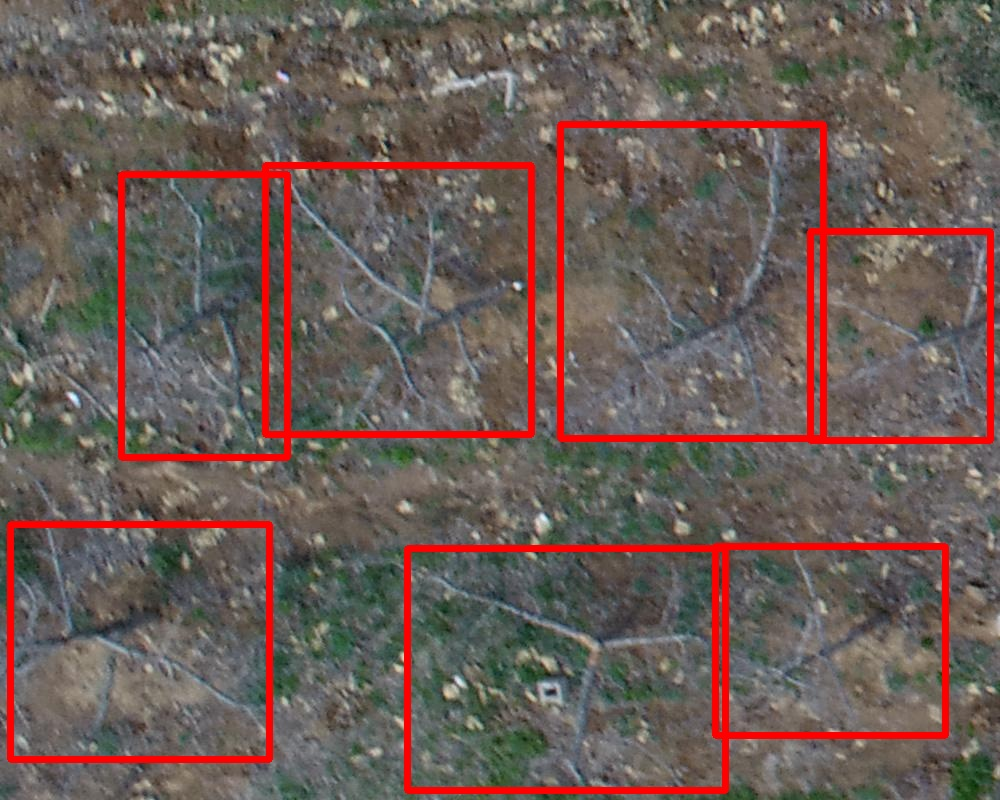apple: (560, 124, 823, 438), (407, 548, 725, 790), (265, 165, 531, 434), (10, 524, 269, 759), (121, 174, 287, 457), (715, 546, 945, 735), (810, 231, 990, 440)
